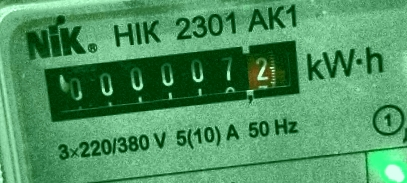0: (65, 73, 85, 102), (96, 69, 116, 98), (126, 64, 146, 92), (187, 55, 206, 84), (157, 59, 175, 87)
2: (252, 53, 271, 83)
7: (217, 53, 236, 83)
screen: (34, 30, 313, 128)
